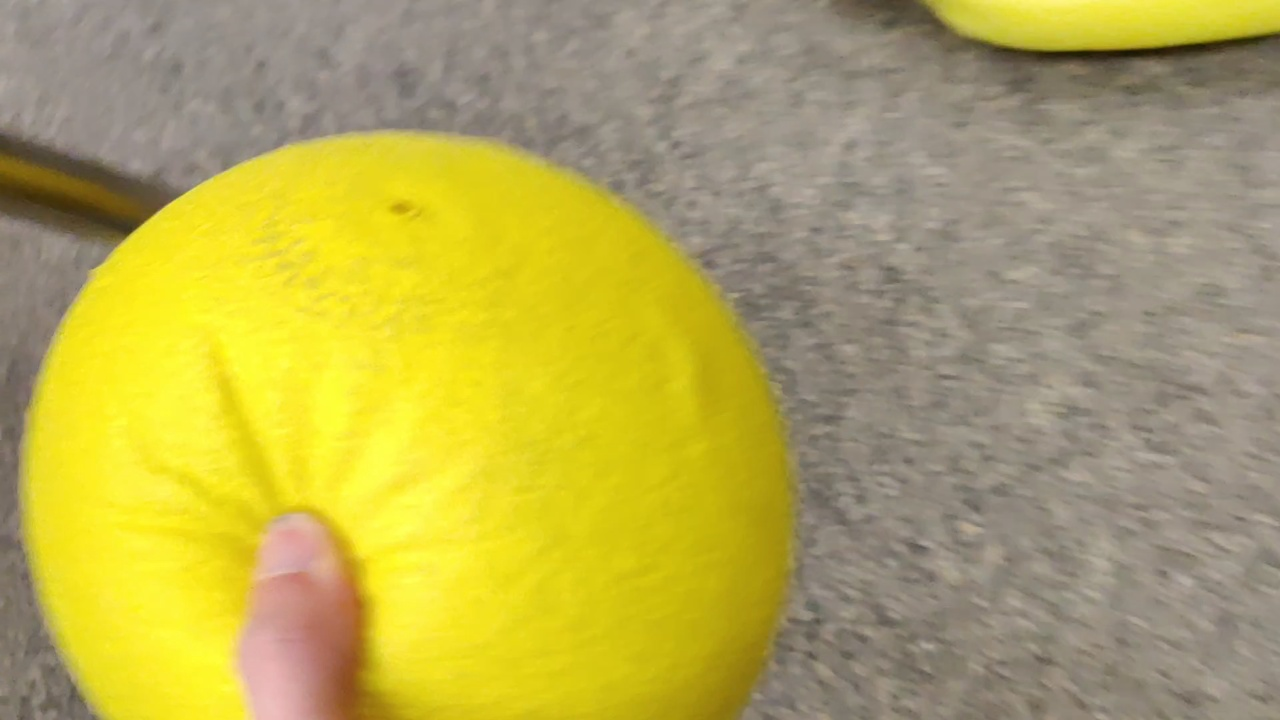Ball: (20, 126, 798, 720)
